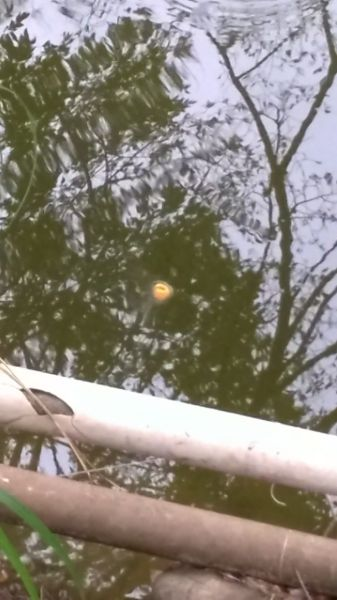eggs: (146, 278, 176, 306)
